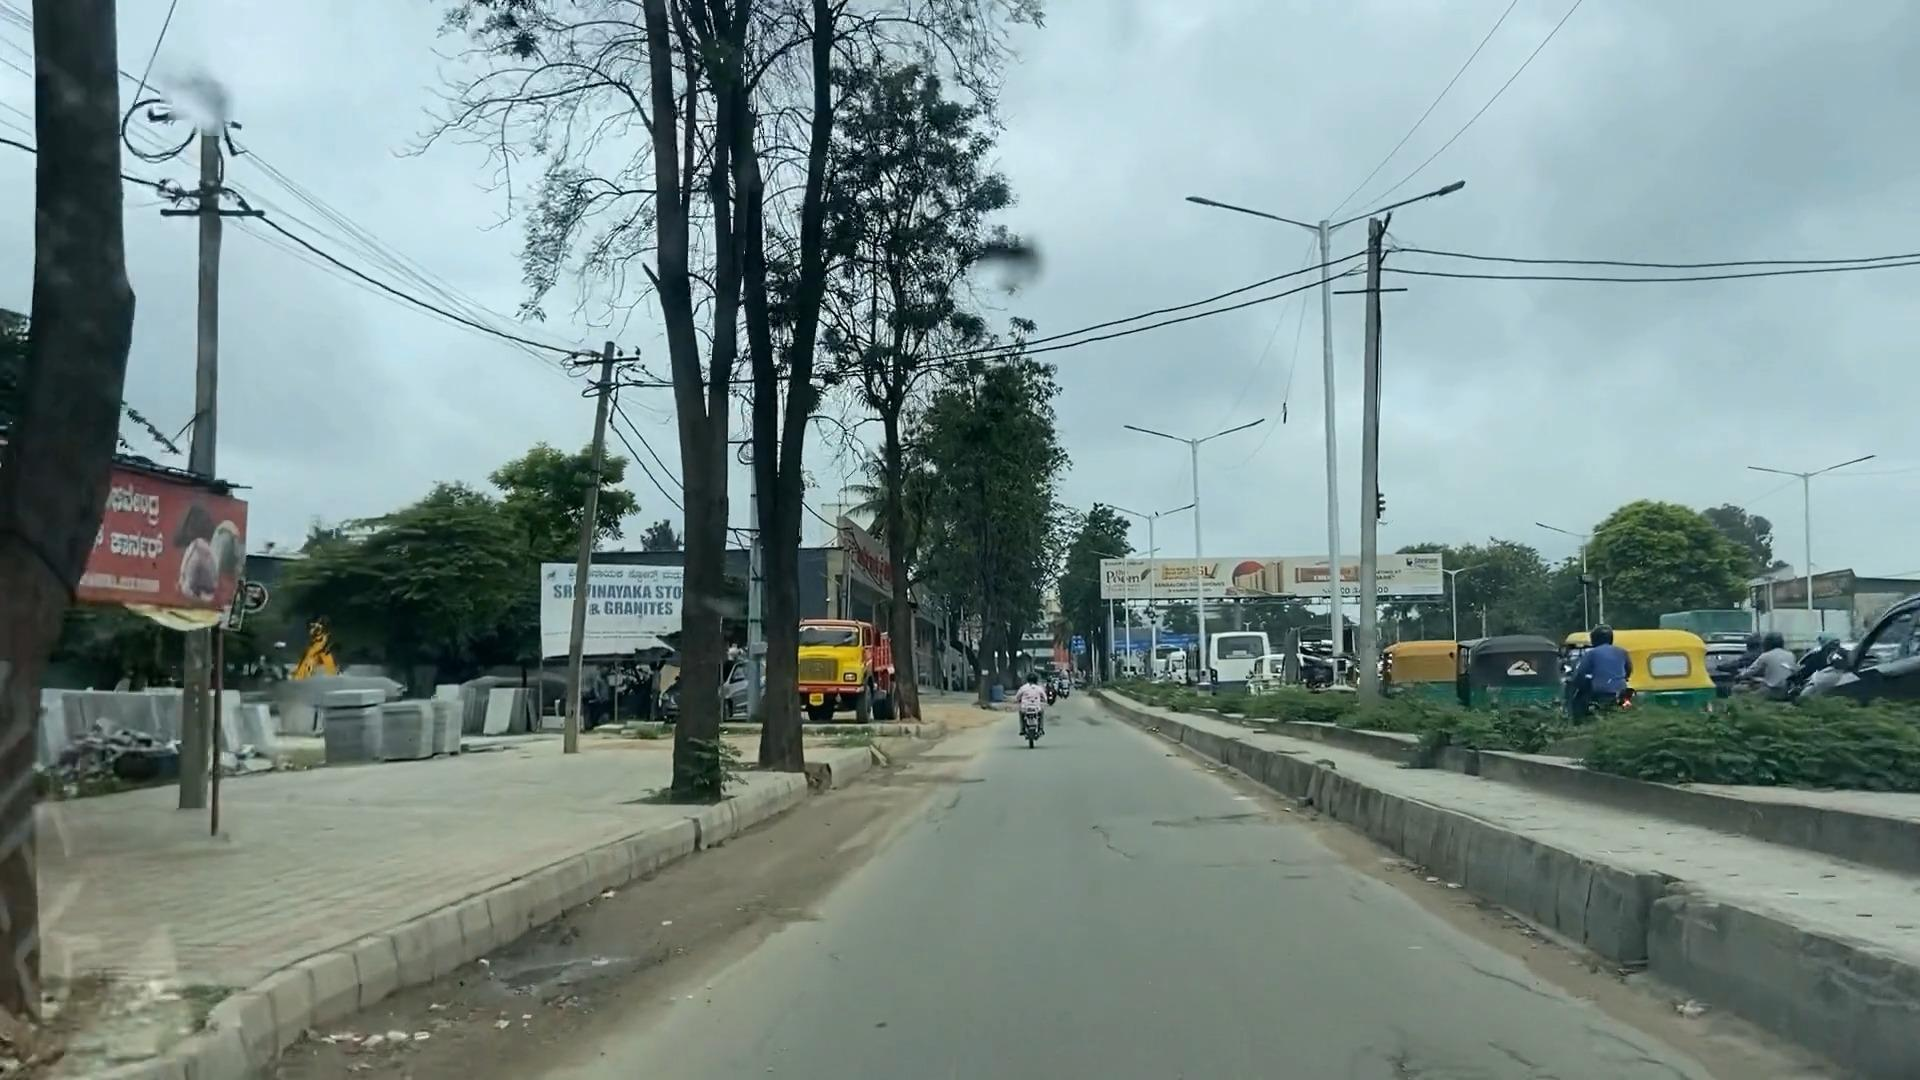RoadDamages: (1120, 780, 1290, 846)
